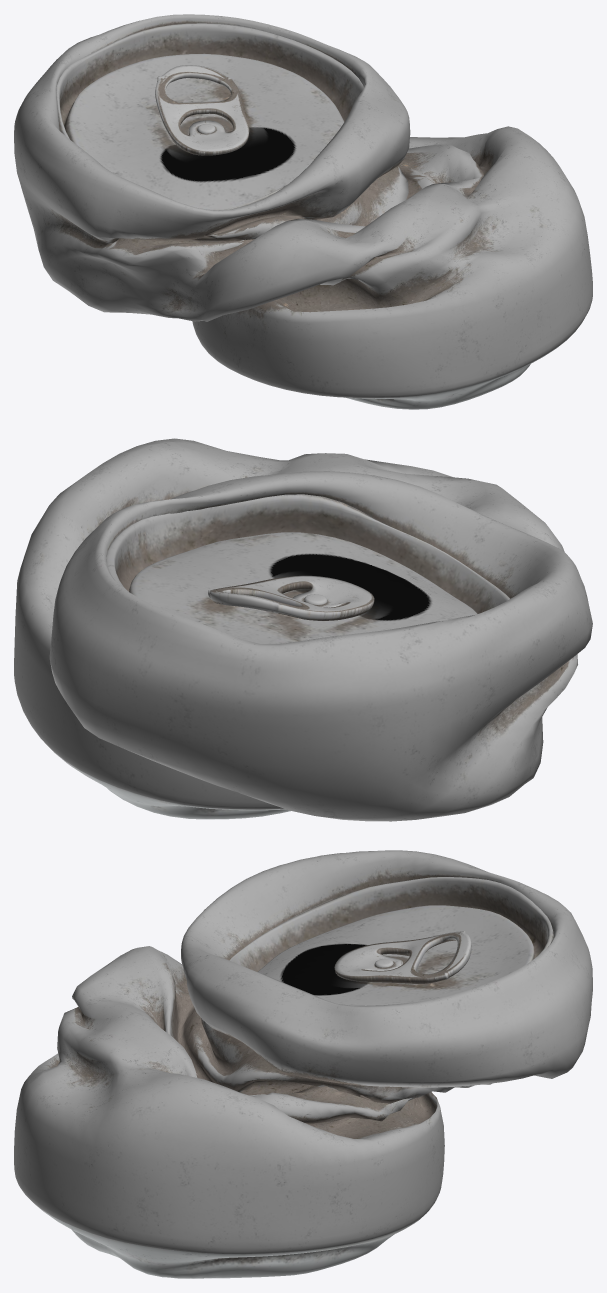
Rendered from CanCrushed.fbx.
3 views of the same model, one above another, from view 1: azimuth 30°, elevation 25°; view 2: azimuth 150°, elevation 25°; view 3: azimuth 270°, elevation 25° (orthographic). The views are drawn at different scales.
Parts seen in each view (by area): view 1: CanCrushed; view 2: CanCrushed; view 3: CanCrushed.
Part boxes in pixels (x1,y1,x2,y2): CanCrushed: [14, 14, 592, 409]; CanCrushed: [14, 438, 592, 821]; CanCrushed: [14, 850, 592, 1278].
Bounding box in the file's own units: 8.37 × 4.27 × 8.84.
1 material, 1 textured.
